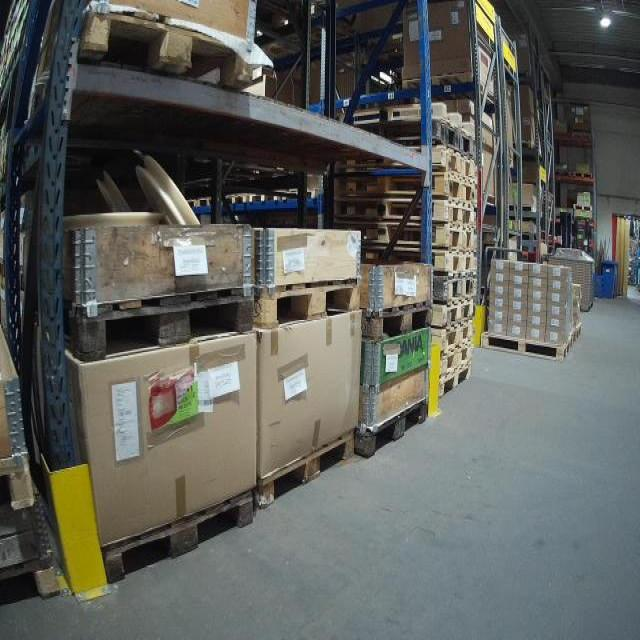pallet: (30, 1, 261, 96), (62, 280, 259, 366), (103, 481, 259, 582), (258, 418, 360, 510), (256, 275, 366, 337), (356, 395, 432, 461), (0, 541, 66, 611), (337, 177, 478, 201), (482, 326, 574, 362), (388, 119, 474, 157), (362, 297, 432, 343), (335, 205, 481, 225), (346, 158, 475, 179), (368, 226, 478, 250), (1, 446, 36, 520), (358, 251, 473, 272), (276, 178, 321, 206), (437, 363, 472, 398), (433, 274, 478, 301), (432, 299, 472, 326), (437, 344, 472, 372), (435, 321, 472, 347), (227, 184, 268, 207), (571, 315, 584, 343), (573, 204, 593, 211), (573, 171, 593, 178)
stillage: (304, 49, 368, 120), (546, 251, 600, 313)
